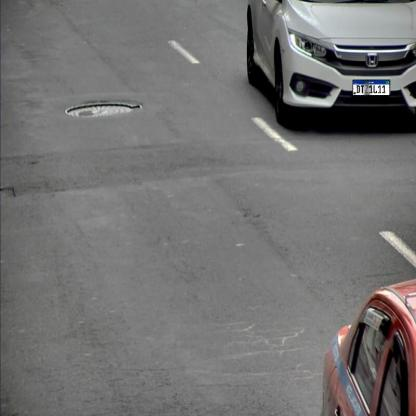PlacaM: (353, 80, 390, 96)
